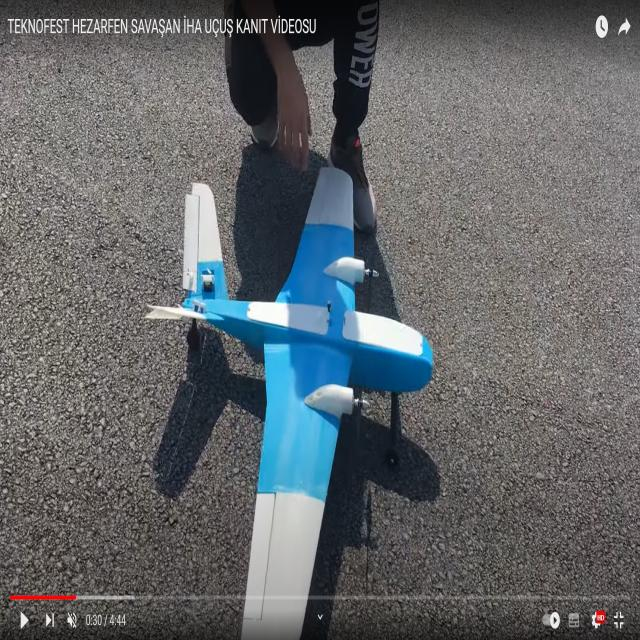iha: (153, 169, 435, 586)
